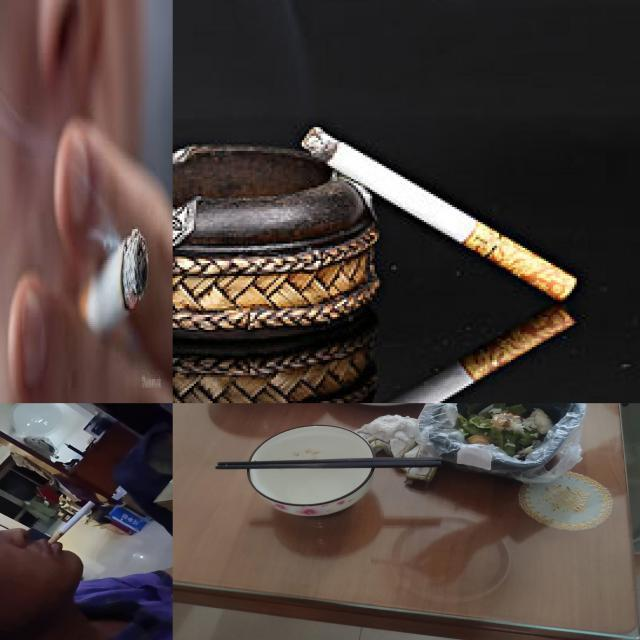smoke: (297, 120, 579, 306), (78, 228, 150, 344), (47, 500, 96, 545)
